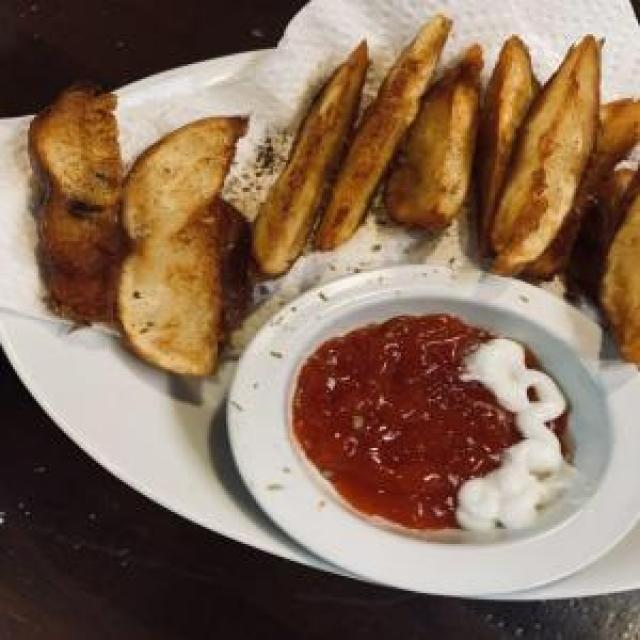French Fries: (23, 17, 640, 331)
